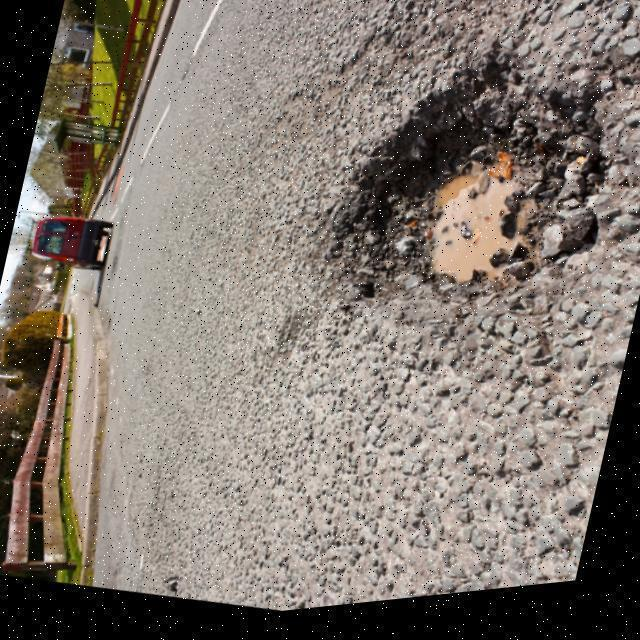Pothole: (336, 48, 615, 312)
